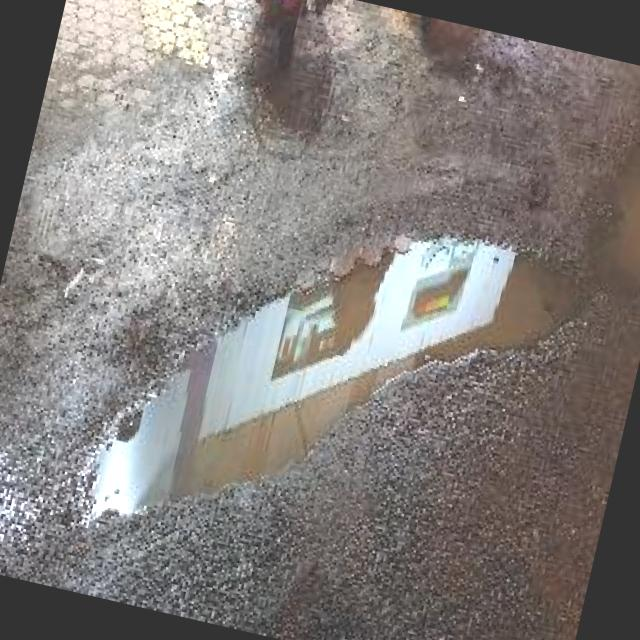stagnation: (44, 206, 583, 536)
